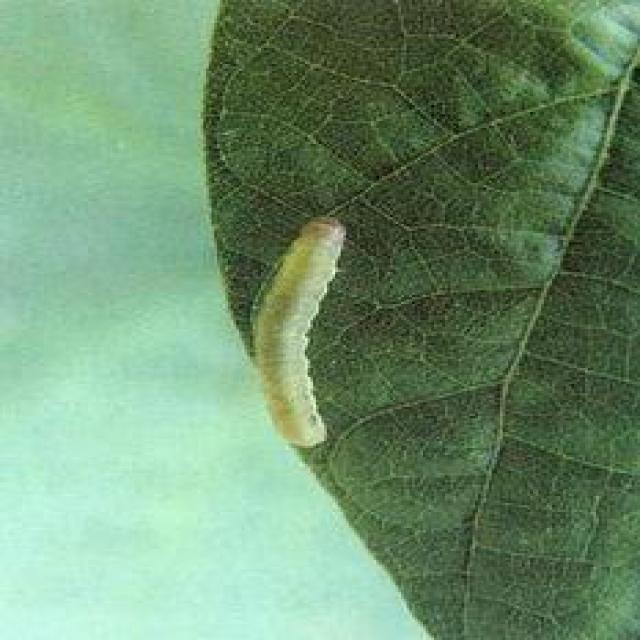BeetArmyWorm-Larva-: (242, 210, 367, 453)
